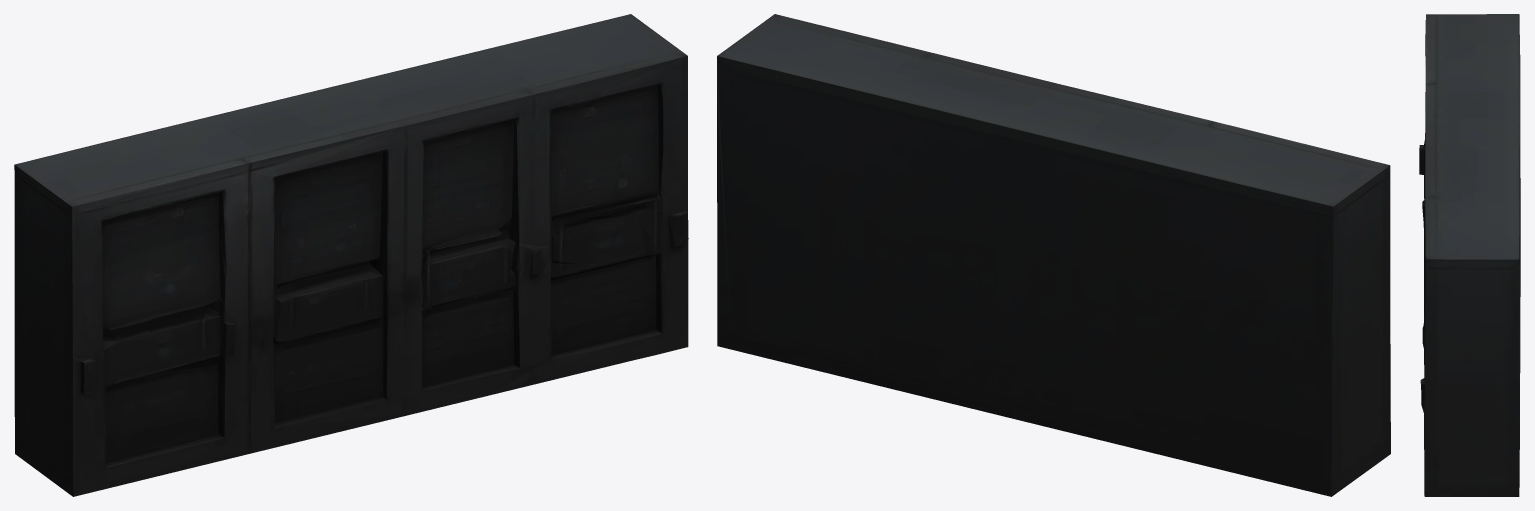
Rendered from servers.glb.
3 views of the same model, side by side, from view 1: azimuth 30°, elevation 25°; view 2: azimuth 150°, elevation 25°; view 3: azimuth 270°, elevation 25° (orthographic). The views are drawn at different scales.
Visible parts, largest first — view 1: geometry_0; view 2: geometry_0; view 3: geometry_0.
Boxes of the visible parts, x1,y1,x2,y2 form: geometry_0: (14,14,688,496); geometry_0: (717,14,1390,496); geometry_0: (1419,14,1520,496).
Size of the model in its own units: 1 by 0.4506 by 0.1743.
Materials: 1 (1 with a texture image).
